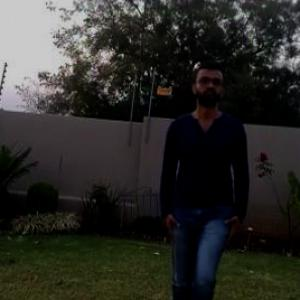follow: (152, 39, 255, 299)
